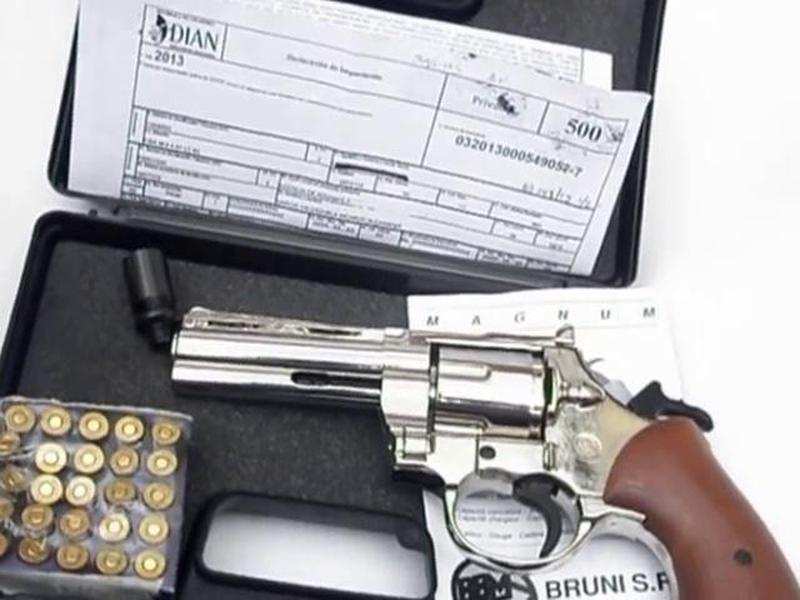Revolver: (151, 290, 729, 587)
